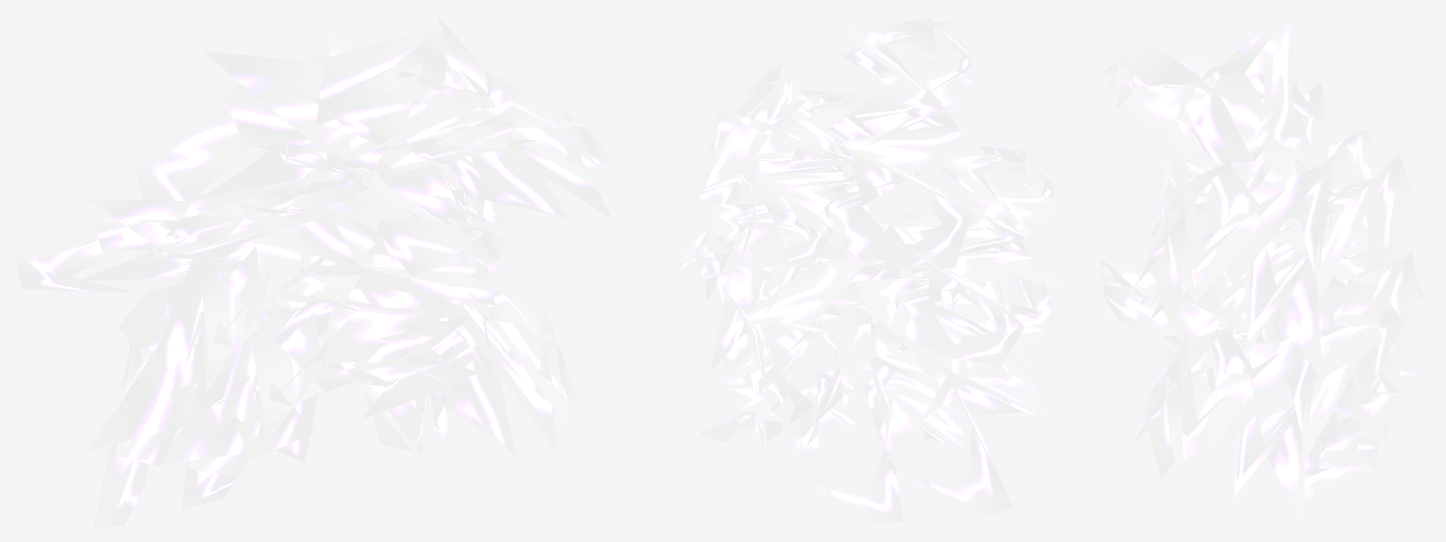
The model's file is sfx_ct0083_skill2.glb.
3 views of the same model, side by side, from view 1: azimuth 30°, elevation 25°; view 2: azimuth 150°, elevation 25°; view 3: azimuth 270°, elevation 25° (orthographic). The views are drawn at different scales.
Parts seen in each view (by area): view 1: sfx_ct0083_skill2; view 2: sfx_ct0083_skill2; view 3: sfx_ct0083_skill2.
Boxes of the visible parts, x1,y1,x2,y2 form: sfx_ct0083_skill2: (14,14,625,527); sfx_ct0083_skill2: (655,15,1070,527); sfx_ct0083_skill2: (1100,14,1431,527).
Size of the model in its own units: 9.57 by 9.37 by 6.36.
1 material, 1 textured.
